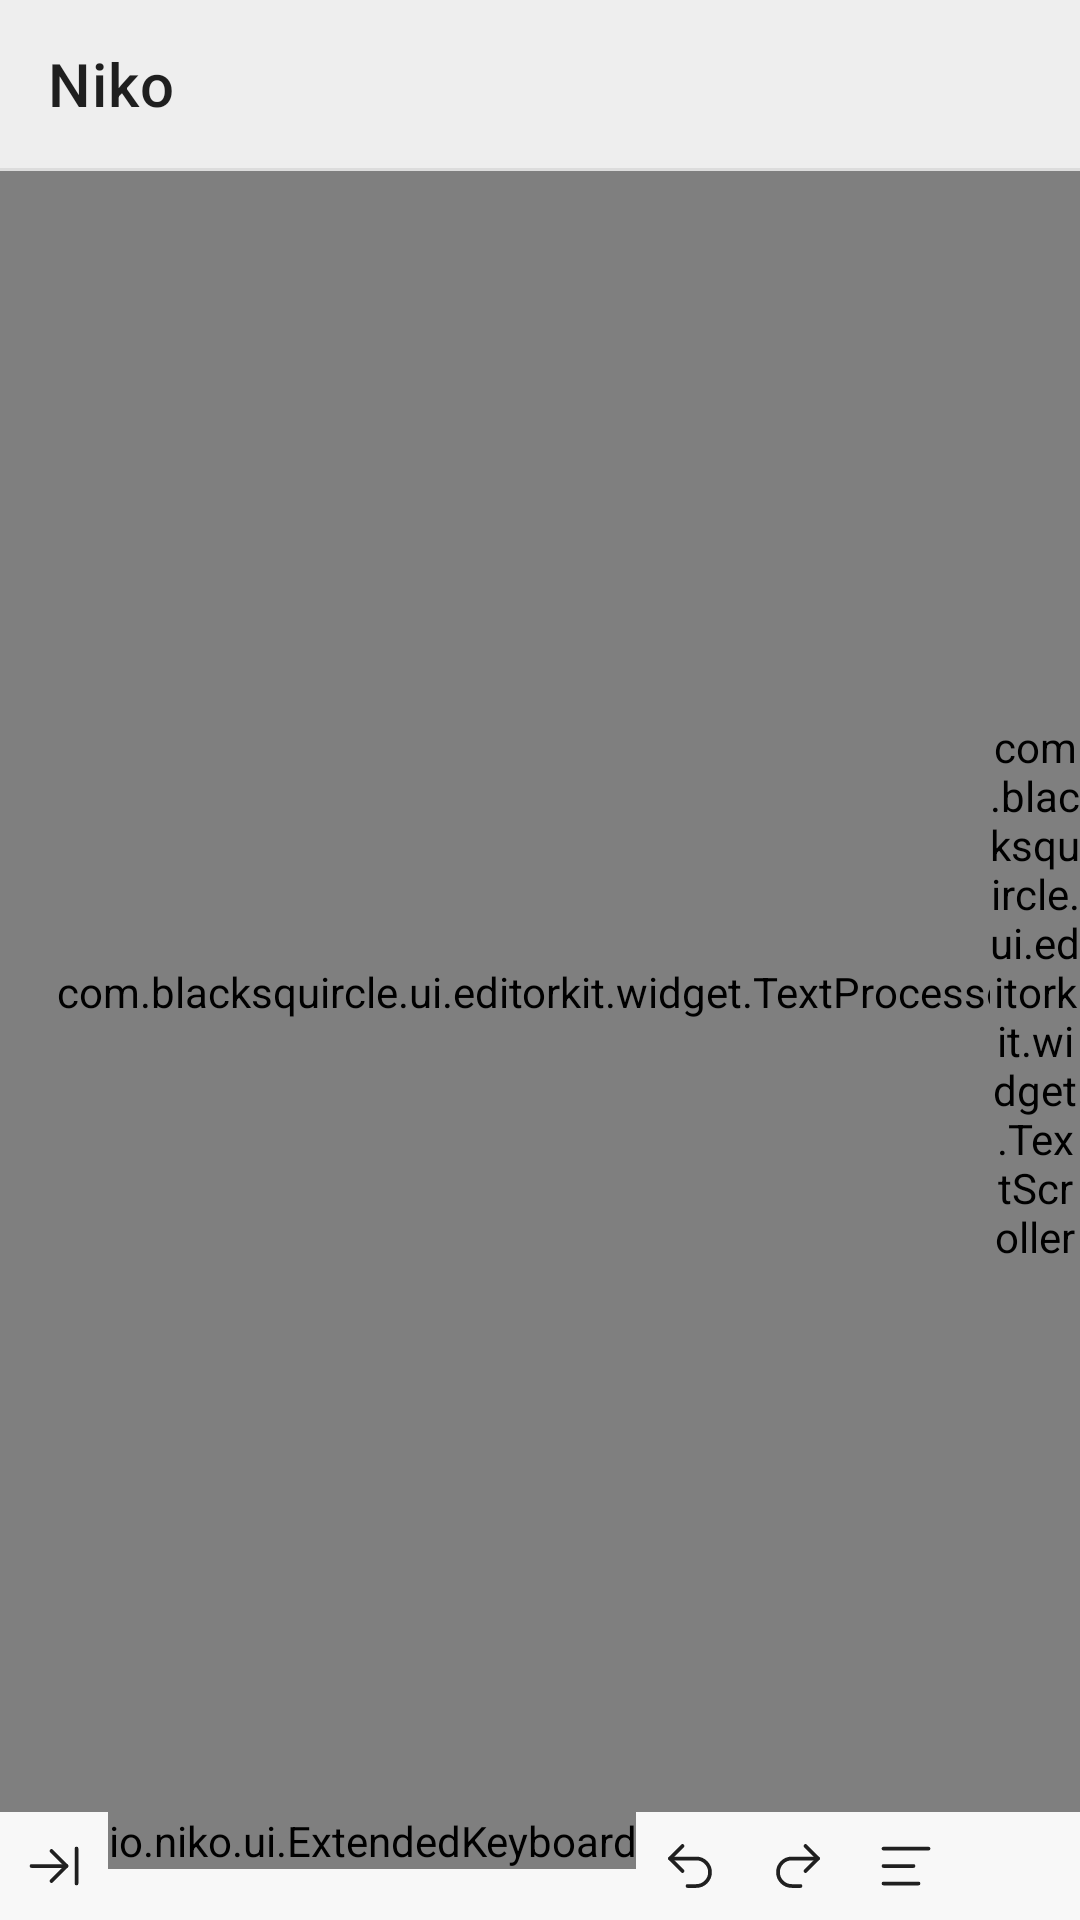

Locate icon controls on the screen. Image size 1080*1920, boxes as (left=x1, top=y1, right=x2, bottom=y2).
Format: (left=881, top=1846, right=931, bottom=1886)
Redo: (left=776, top=1844, right=820, bottom=1888)
Undo: (left=668, top=1844, right=712, bottom=1888)
